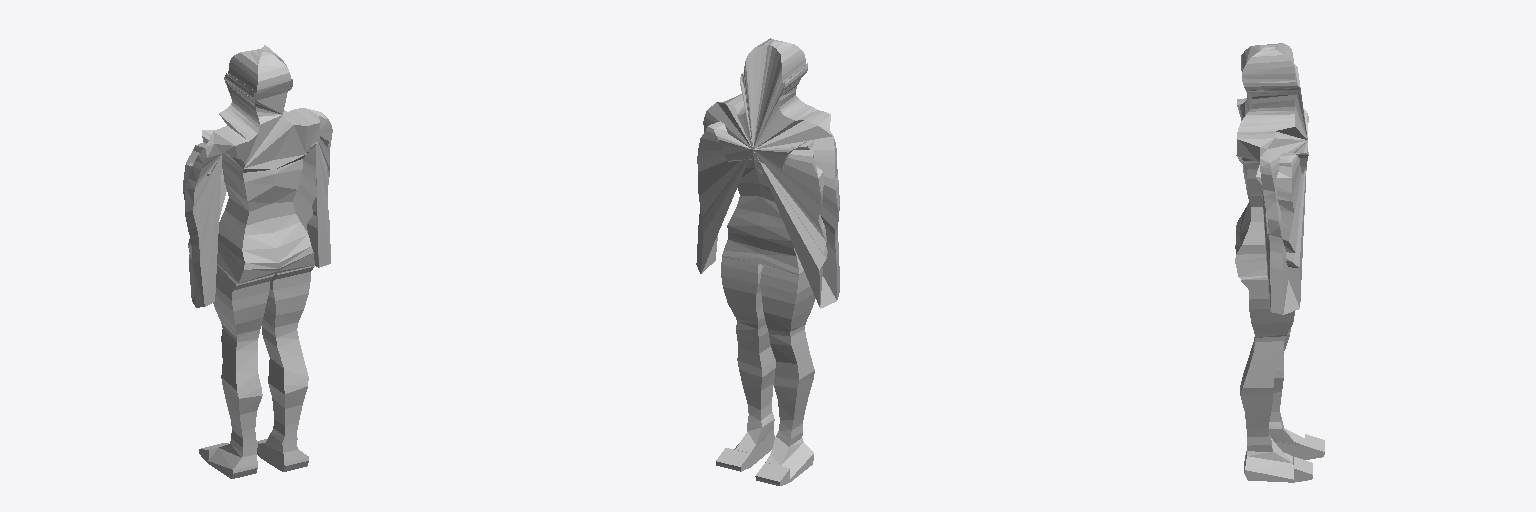
The model's file is woman_000003.obj.
3 views of the same model, side by side, from view 1: azimuth 30°, elevation 25°; view 2: azimuth 150°, elevation 25°; view 3: azimuth 270°, elevation 25° (orthographic).
Visible parts, largest first — view 1: Cube_Cube.001; view 2: Cube_Cube.001; view 3: Cube_Cube.001.
Boxes of the visible parts, box(x1,y1,x2,y2) form: Cube_Cube.001: box(183, 45, 332, 478); Cube_Cube.001: box(696, 38, 839, 485); Cube_Cube.001: box(1235, 43, 1324, 482).
Bounding box in the file's own units: 3.52 × 9.95 × 1.94.